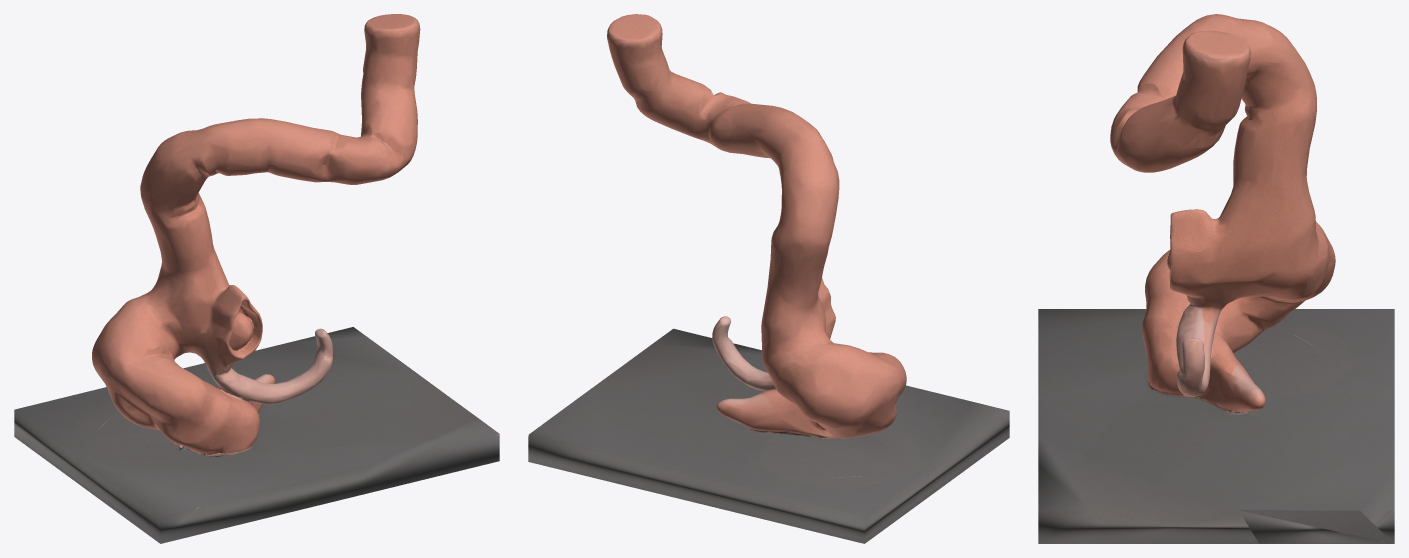
File: Part_Appendix.glb
3 views of the same model, side by side, from view 1: azimuth 30°, elevation 25°; view 2: azimuth 150°, elevation 25°; view 3: azimuth 270°, elevation 25° (orthographic). The views are drawn at different scales.
Bounding box in the file's own units: 1.7 × 1.9 × 1.27.
1 material, 1 textured.
